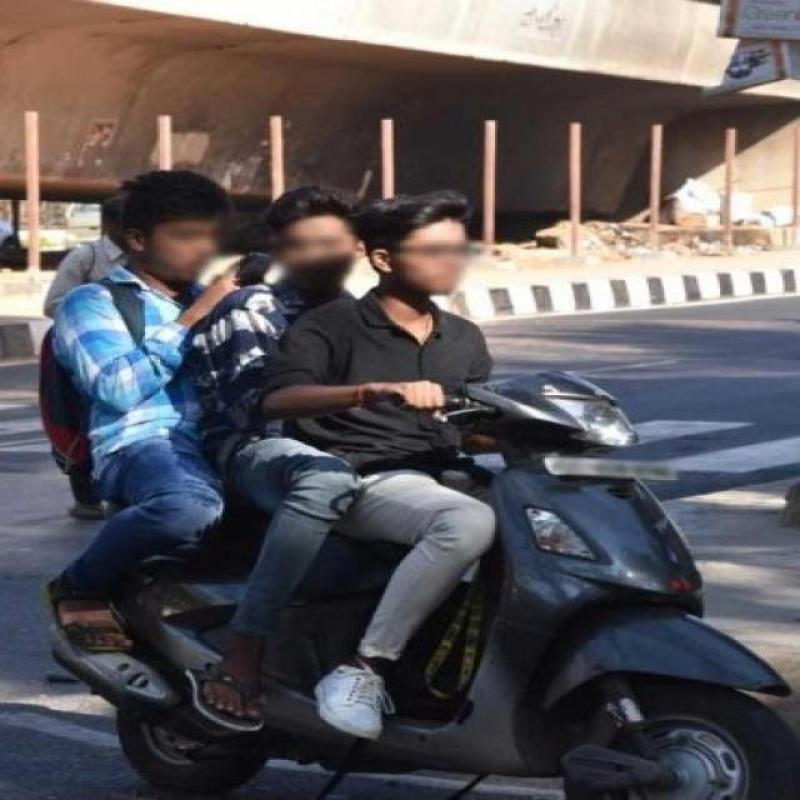nohelmet: (118, 153, 237, 292), (263, 169, 369, 300), (376, 191, 497, 303)
